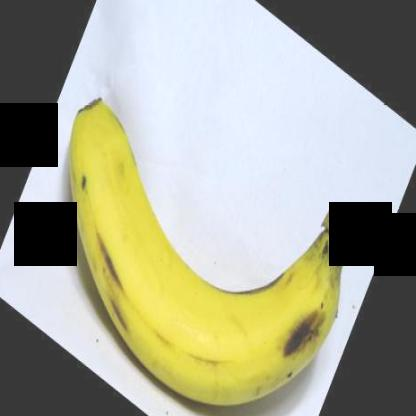freshripe: (56, 88, 358, 415)
